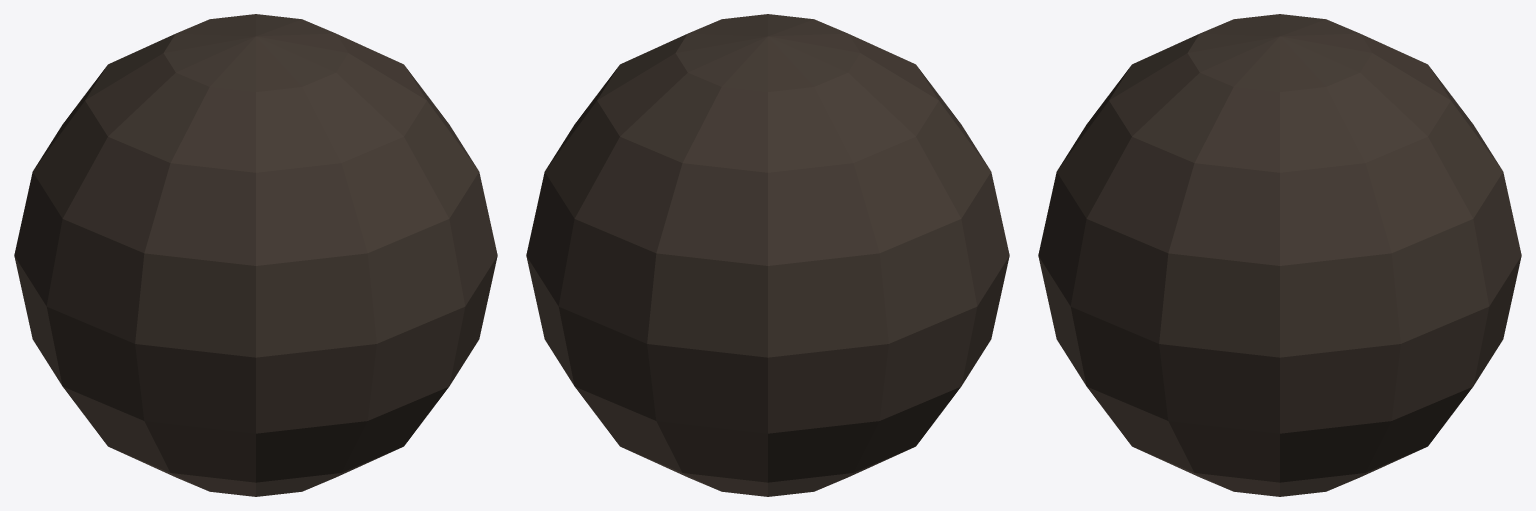
The model's file is asteroid.glb.
3 renders of one model, left to right at view 1: azimuth 30°, elevation 25°; view 2: azimuth 150°, elevation 25°; view 3: azimuth 270°, elevation 25°, orthographic.
Parts seen in each view (by area): view 1: asteroid; view 2: asteroid; view 3: asteroid.
Part boxes in pixels (<box>): asteroid: <box>14,14,497,496</box>; asteroid: <box>526,14,1009,496</box>; asteroid: <box>1038,14,1521,496</box>.
Size of the model in its own units: 1 by 1 by 1.
1 material, 1 textured.
